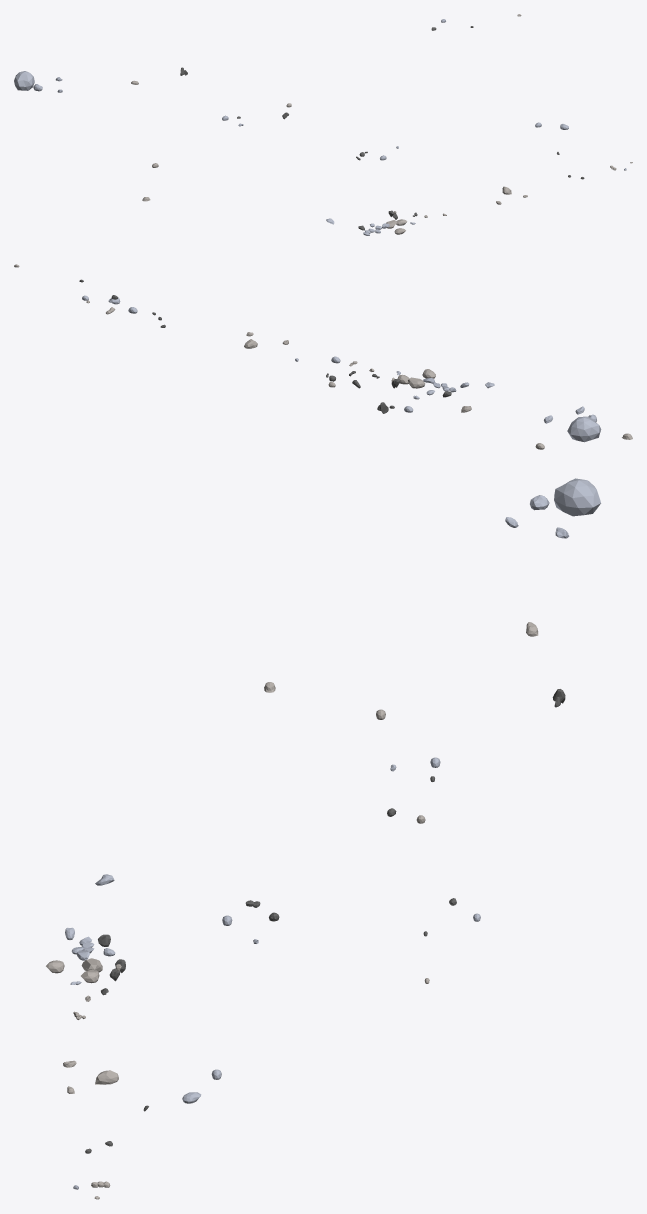
The model's file is 1_Forest_C_Rock.fbx.
The picture shows the model from 3 angles, top to bottom: view 1: azimuth 30°, elevation 25°; view 2: azimuth 150°, elevation 25°; view 3: azimuth 270°, elevation 25°; orthographic projection. The views are drawn at different scales.
Parts seen in each view (by area): view 1: Rock; view 2: Rock; view 3: Rock.
Boxes of the visible parts, left/top/right/bottom form: Rock: left=14, top=71, right=34, bottom=90; Rock: left=567, top=416, right=601, bottom=442; Rock: left=554, top=478, right=600, bottom=516.
Bounding box in the file's own units: 30185 × 62549 × 15102.
